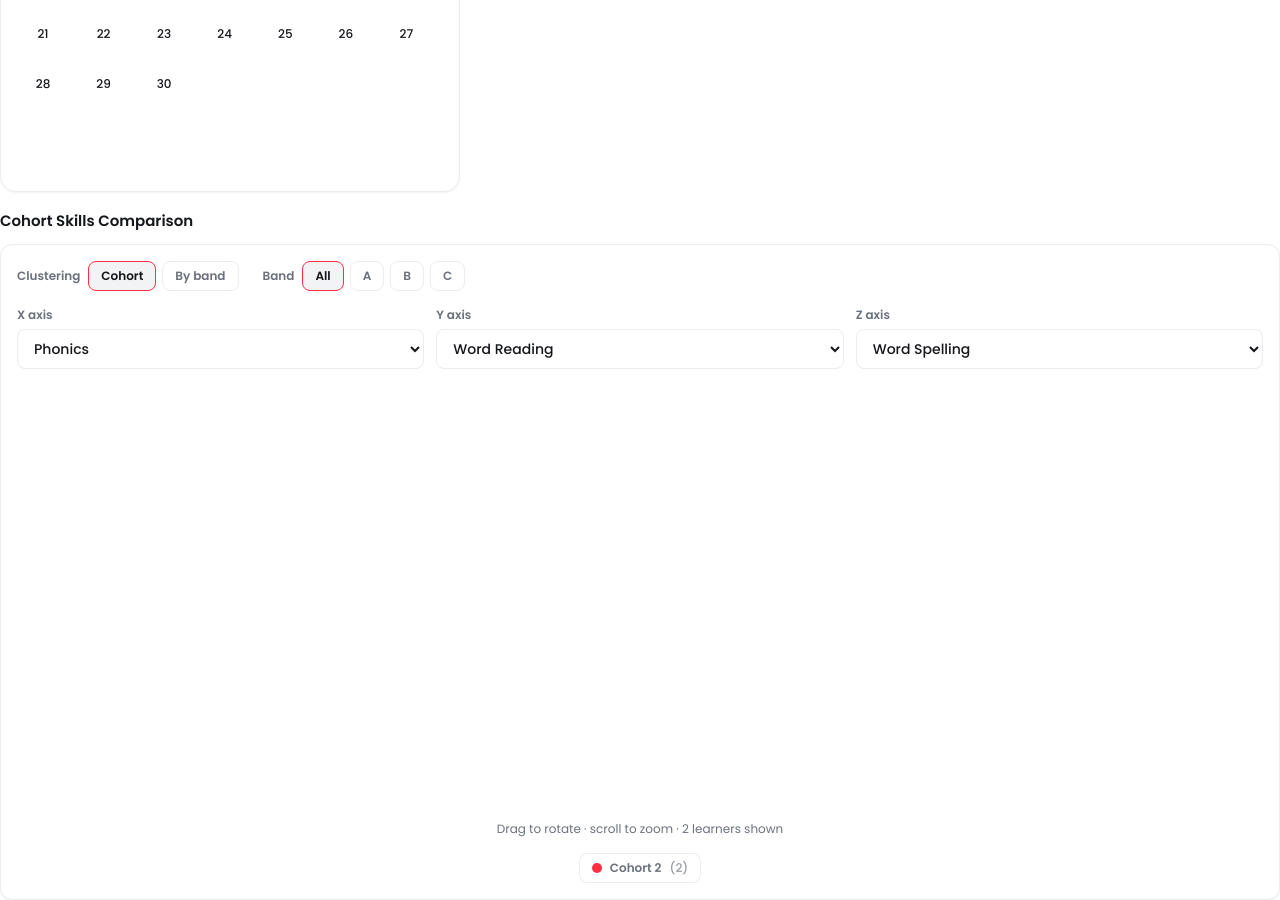
Test: UT-2.53: clicking a caseload learner opens the profile overlay
(page scrolled)
Click the button "Cohort 2 (2)" at (640, 868), box x1=579 y1=854 x2=701 y2=884
(page scrolled)
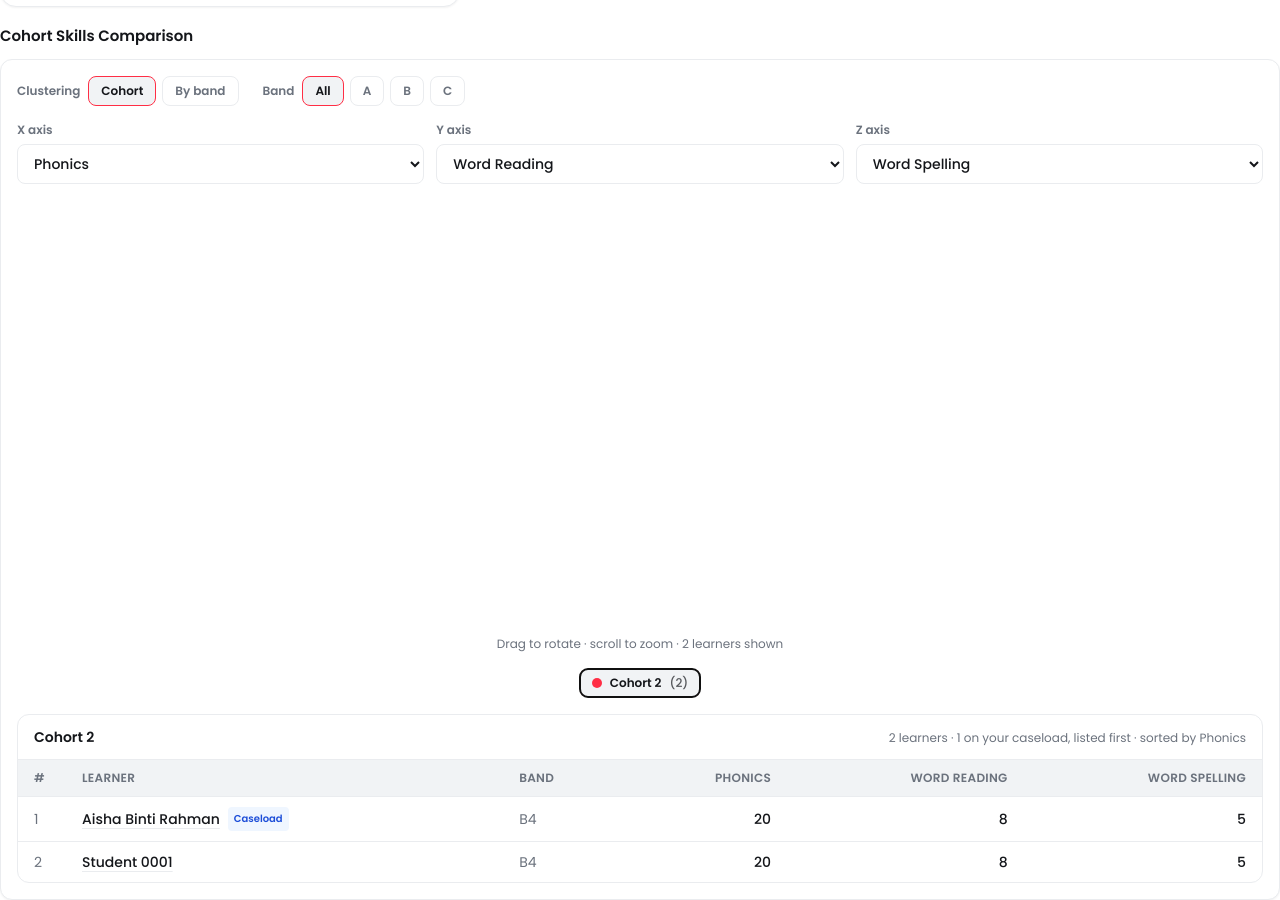
Click the button "Aisha Binti Rahman" at (151, 820), box x1=82 y1=810 x2=220 y2=830
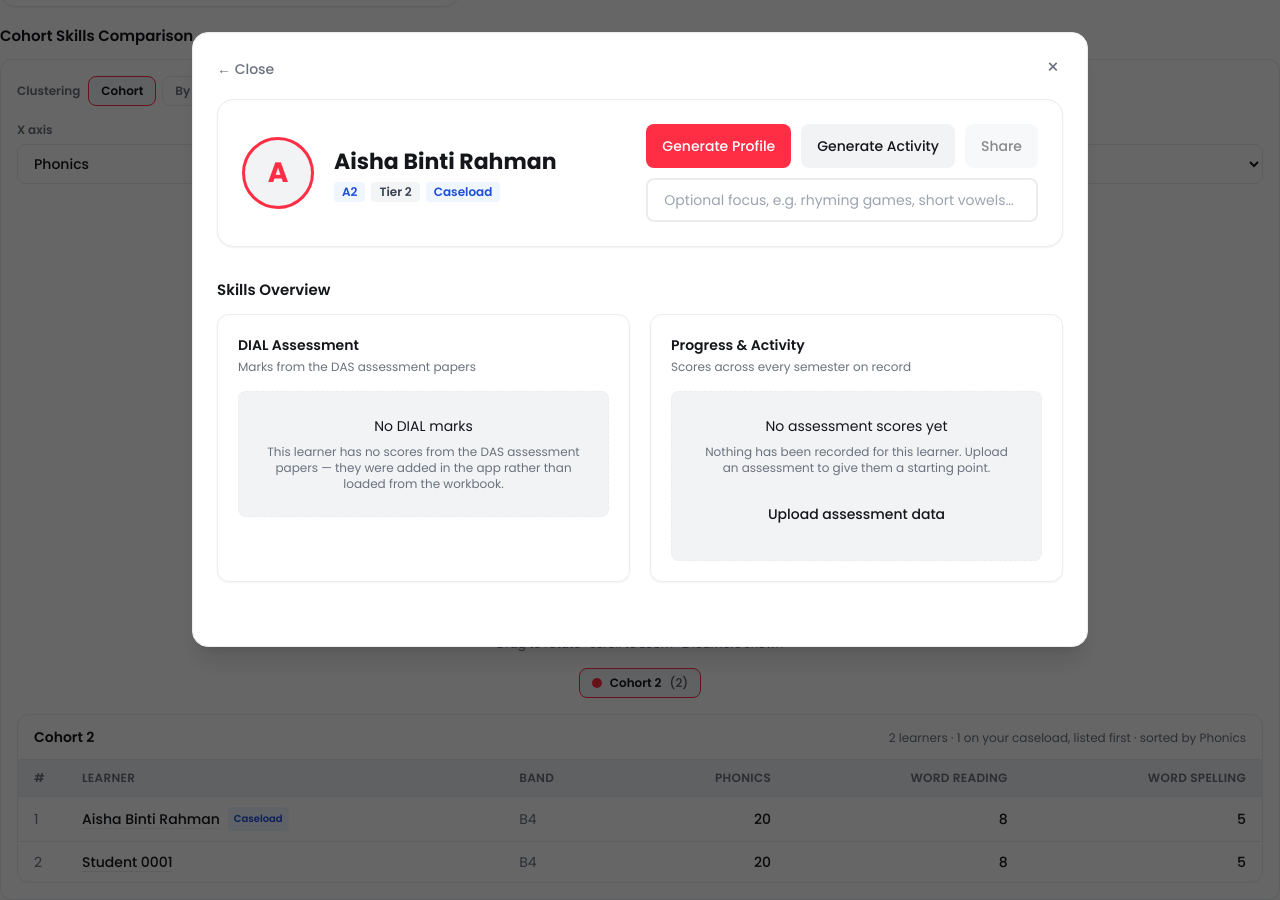
Now the heading "Aisha Binti Rahman" is shown, box x1=334 y1=144 x2=556 y2=178
